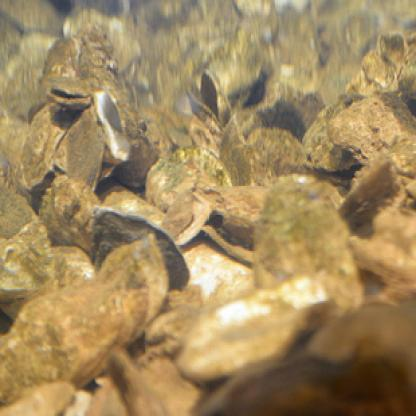Oyster- Indeterminate: (48, 76, 93, 113)
Oyster-Closed: (0, 234, 169, 406), (256, 179, 364, 322), (184, 274, 321, 381), (325, 91, 416, 190), (92, 210, 191, 293), (143, 151, 222, 243), (0, 176, 59, 297), (42, 176, 102, 253), (247, 121, 317, 184), (54, 103, 104, 186), (21, 105, 70, 188), (339, 161, 398, 226), (221, 116, 254, 187), (44, 37, 82, 87)
Oyster-Open: (92, 87, 136, 161), (185, 72, 231, 136)
